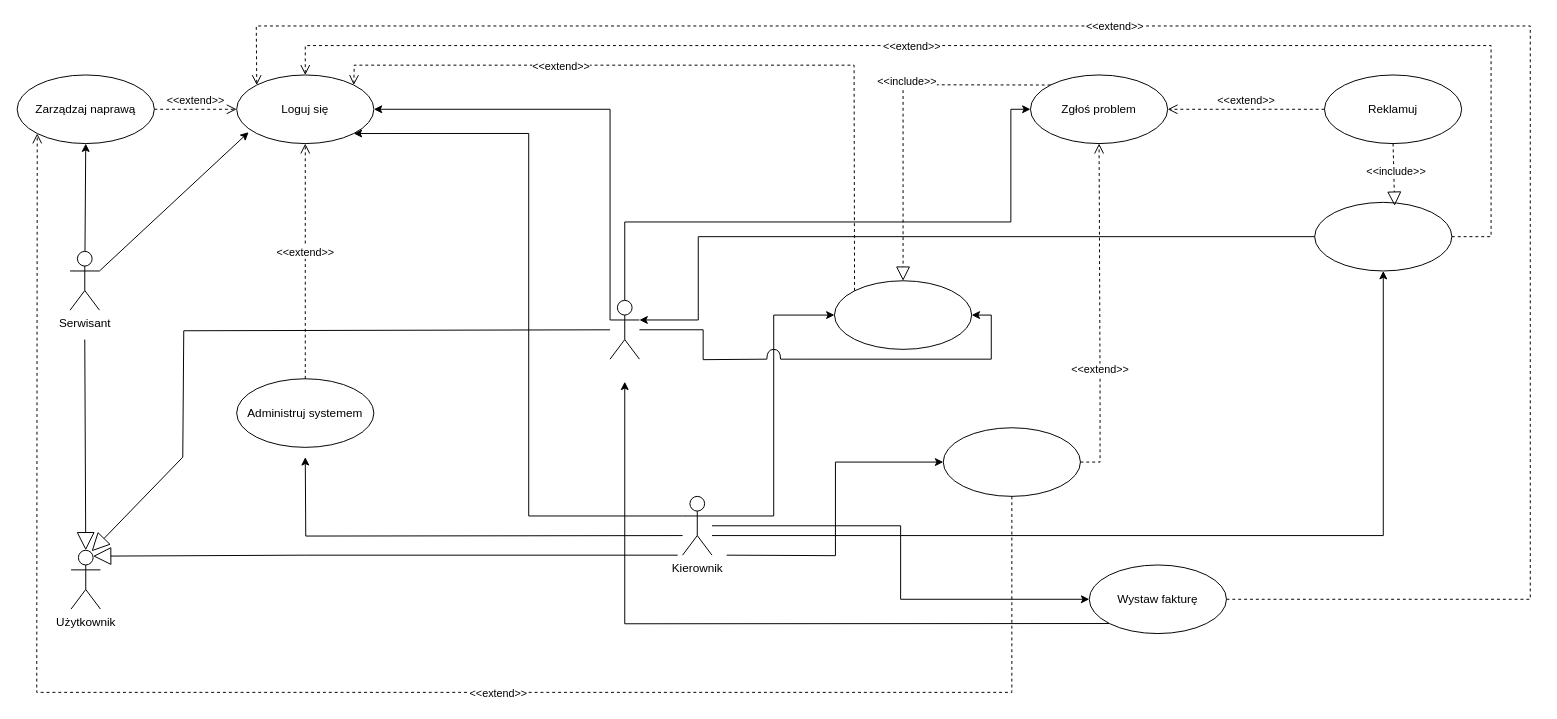
The diagram is 1557 pixels wide and 719 high, and some of its shapes have lost their labels. Here are the shapes that lost their labels. From the top down, the centre of each, then its label:
At point (1383, 236): "Wystaw gwarację".
At point (624, 329): "Klient".
At point (902, 314): "Rejestruj Klienta".
At point (1011, 461): "Poinformuj o ukończeniu naprawy".
